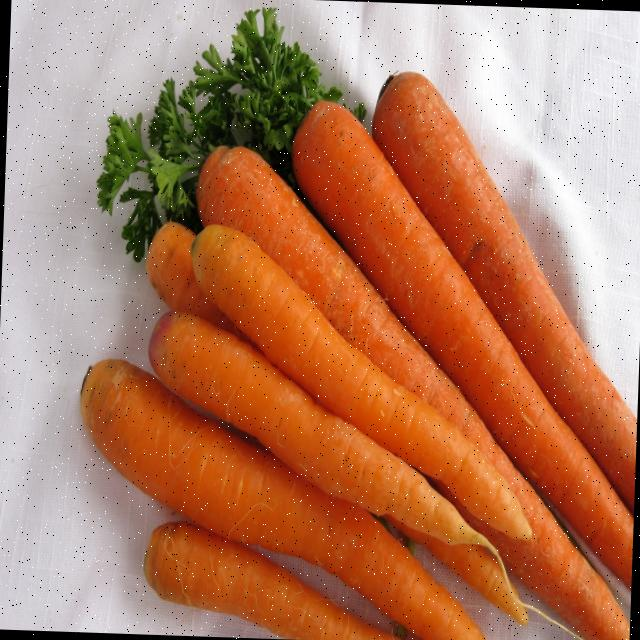carrot: (197, 147, 629, 640), (292, 101, 633, 575), (372, 71, 636, 512), (80, 358, 484, 640), (190, 224, 530, 538), (149, 312, 480, 543), (148, 311, 378, 478), (143, 521, 398, 640), (145, 221, 237, 333), (426, 539, 526, 621)
